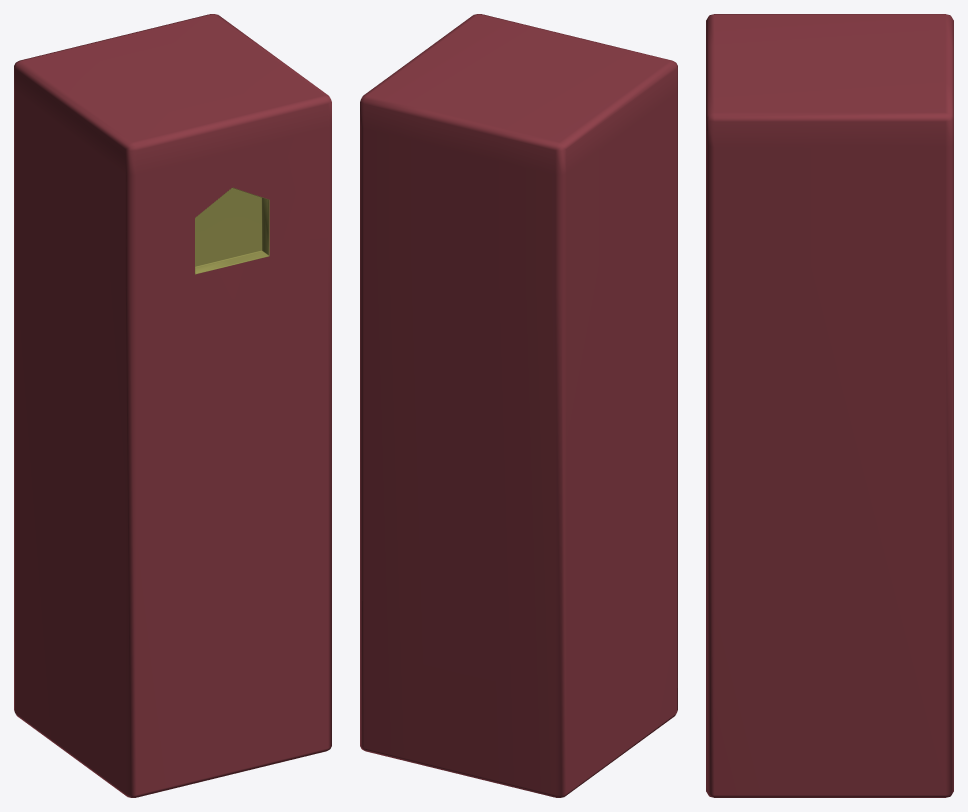
Rendered from FM_H_Doll_Arch_Base_001.fbx.
The picture shows the model from 3 angles, left to right: view 1: azimuth 30°, elevation 25°; view 2: azimuth 150°, elevation 25°; view 3: azimuth 270°, elevation 25°; orthographic projection. The views are drawn at different scales.
Visible parts, largest first — view 1: H_Doll_Arch_Base_001; view 2: H_Doll_Arch_Base_001; view 3: H_Doll_Arch_Base_001.
Boxes of the visible parts, bbox=[...] form: H_Doll_Arch_Base_001: bbox=[14, 14, 331, 797]; H_Doll_Arch_Base_001: bbox=[360, 14, 677, 797]; H_Doll_Arch_Base_001: bbox=[706, 14, 953, 797].
Size of the model in its own units: 4 by 12.18 by 4.
